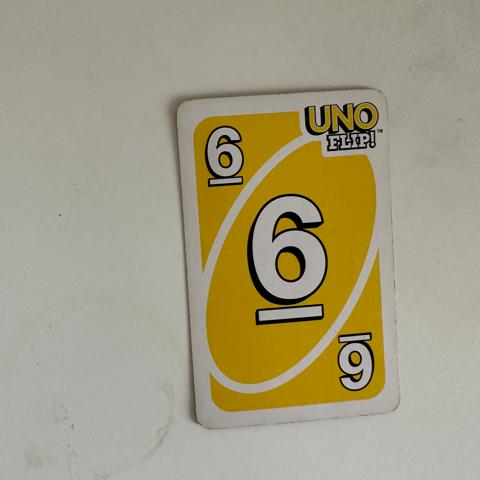lyellow-6: (189, 110, 262, 195)
